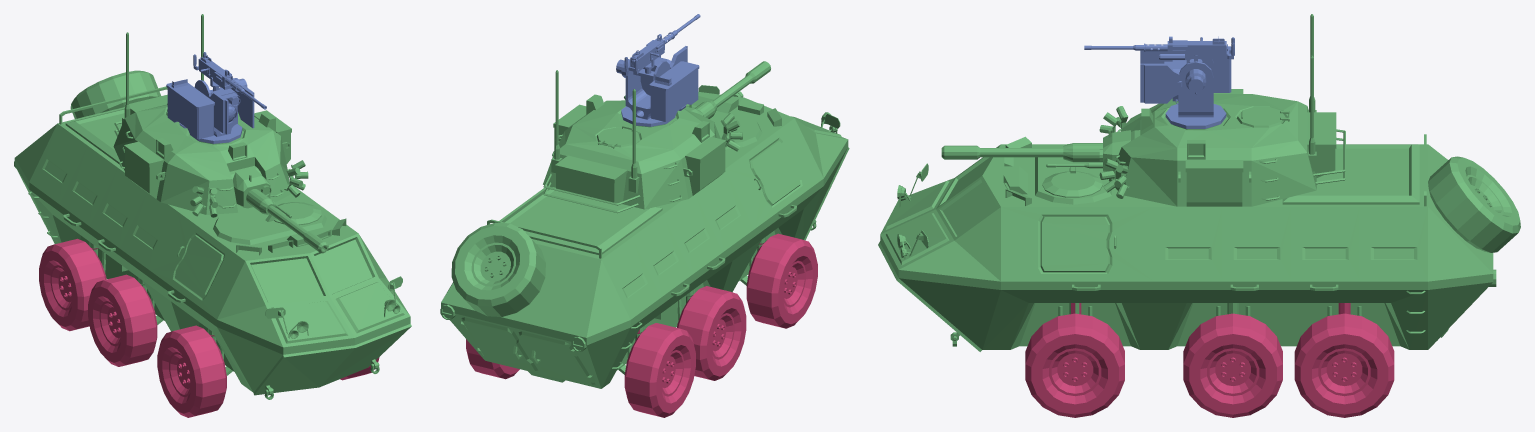
File: full_16_coarse.glb
3 views of the same model, side by side, from view 1: azimuth 30°, elevation 25°; view 2: azimuth 150°, elevation 25°; view 3: azimuth 270°, elevation 25° (orthographic). The views are drawn at different scales.
Visible parts, largest first — view 1: world; view 2: world; view 3: world.
Part boxes in pixels (left/top/right/bottom): world: left=14, top=14, right=411, bottom=417; world: left=440, top=14, right=849, bottom=417; world: left=878, top=14, right=1520, bottom=417.
Bounding box in the file's own units: 0.3115 × 0.4722 × 0.8246.
